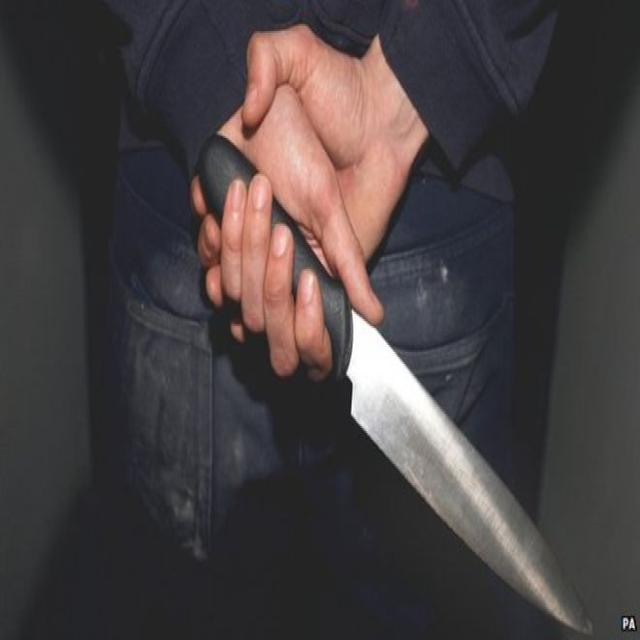knife: (191, 128, 598, 640)
